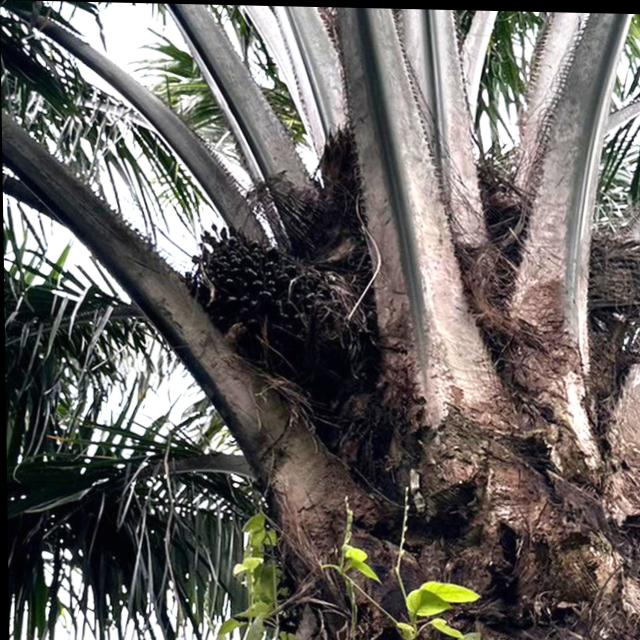almost: (180, 211, 340, 379)
